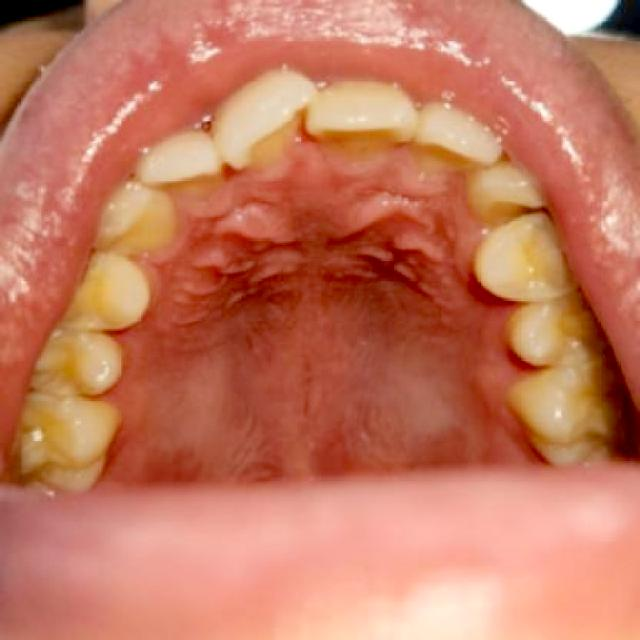Plaque: (100, 415, 135, 478), (112, 233, 157, 282)
